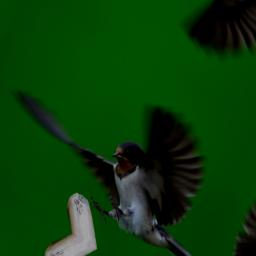Swallow: (0, 30, 242, 256)
